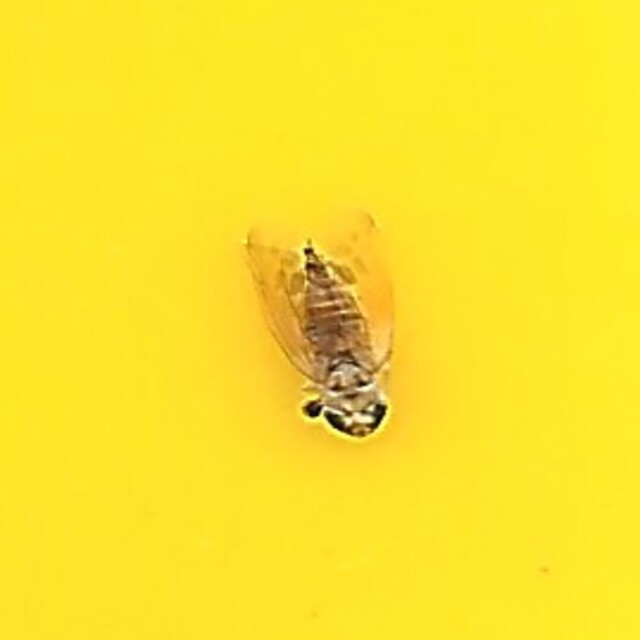Hemiptera: (238, 203, 402, 437)
